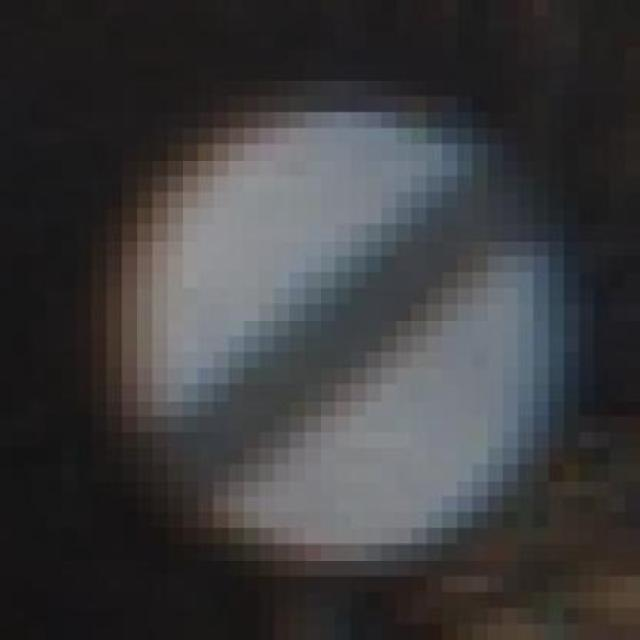End of all speed and passing limits: (76, 96, 579, 576)
